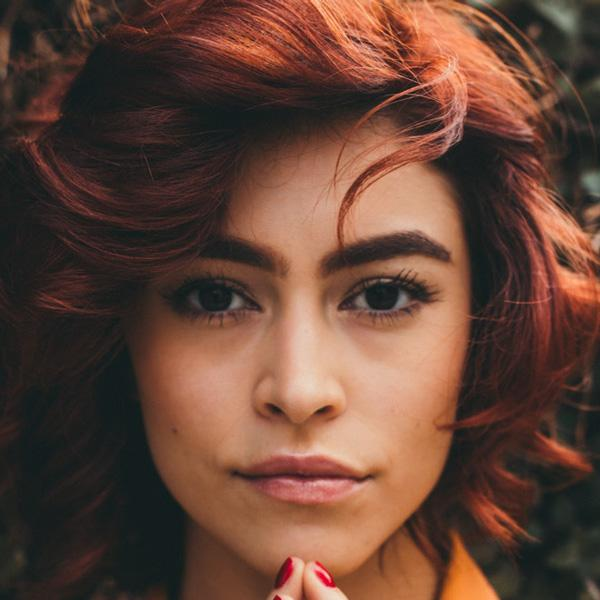Eyes: (157, 266, 270, 335), (326, 268, 438, 336)
